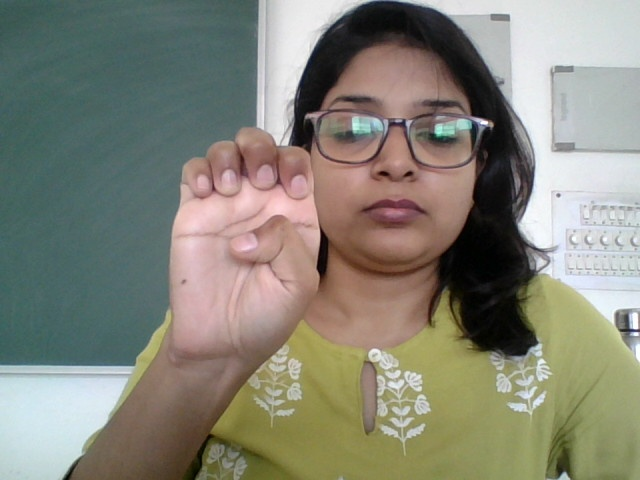E: (159, 123, 329, 379)
